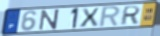1: (70, 7, 81, 30)
6: (19, 10, 39, 33)
N: (38, 8, 61, 32)
R: (98, 5, 122, 28), (119, 5, 142, 26)
X: (79, 7, 101, 28)
